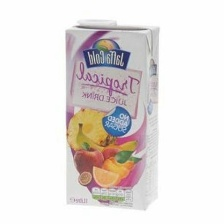carton: (58, 16, 165, 216)
